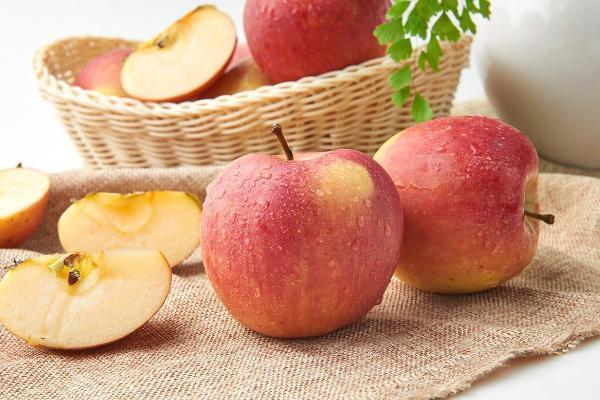apple: (196, 147, 403, 340), (370, 114, 540, 294), (1, 250, 175, 350), (245, 1, 392, 83), (55, 191, 203, 270), (121, 4, 237, 99)
